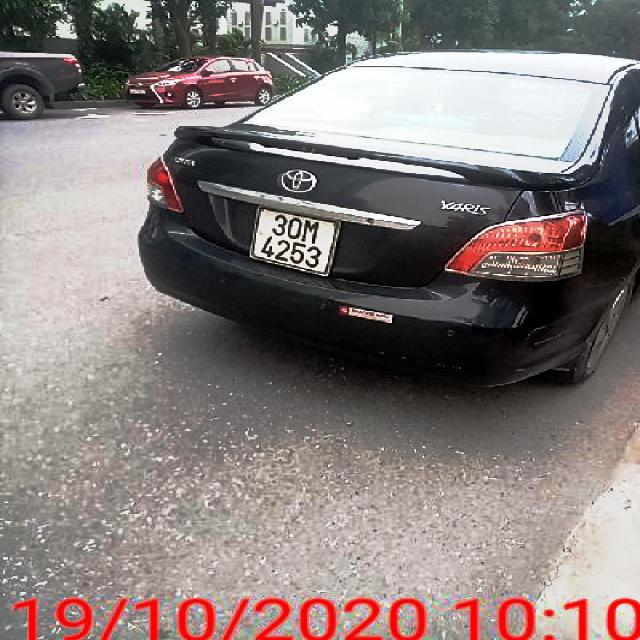license_plate: (252, 205, 347, 276)
